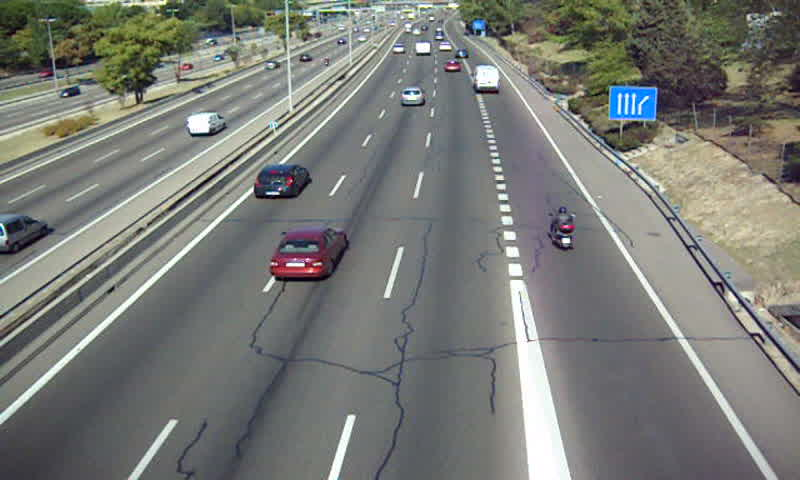car: (270, 227, 346, 281), (253, 164, 309, 199), (399, 85, 424, 107), (441, 60, 461, 75), (438, 40, 453, 52), (455, 48, 469, 59), (391, 44, 404, 54)
motorcycle: (548, 206, 576, 252)
van: (472, 65, 502, 93), (413, 41, 429, 56)
